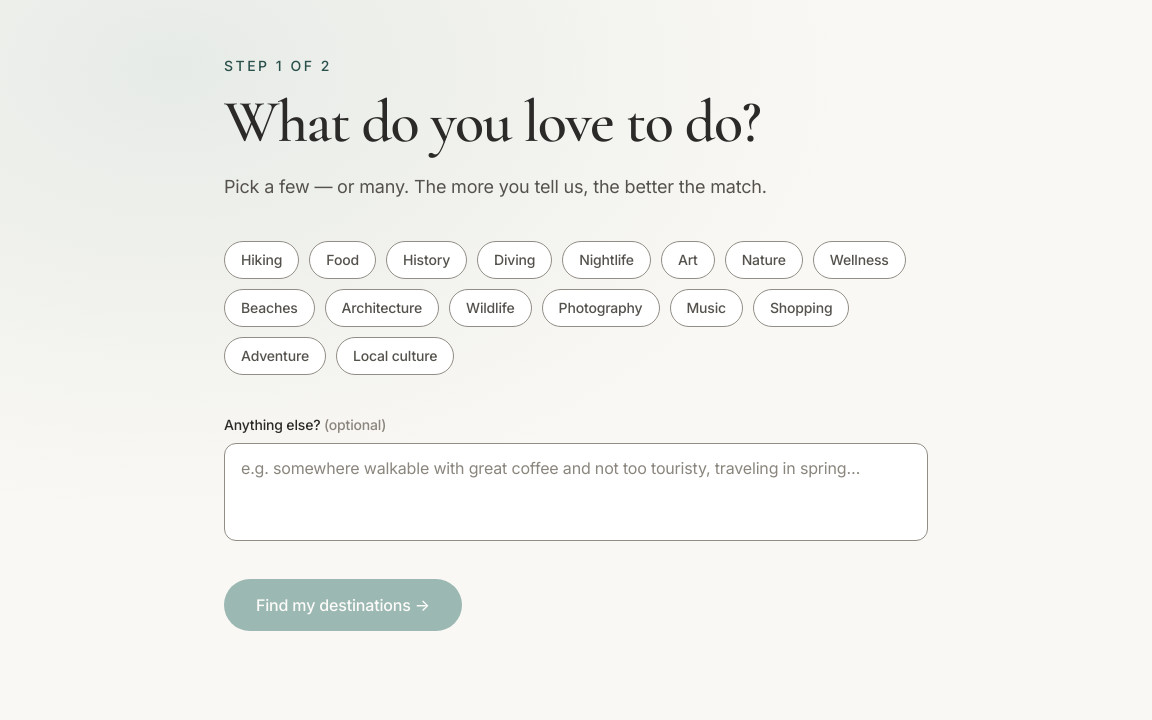
DiscoverPage (extended) › shows the running count and lets a hobby be toggled back off
Click the button "Food" at (343, 260), box [309,241,376,279]
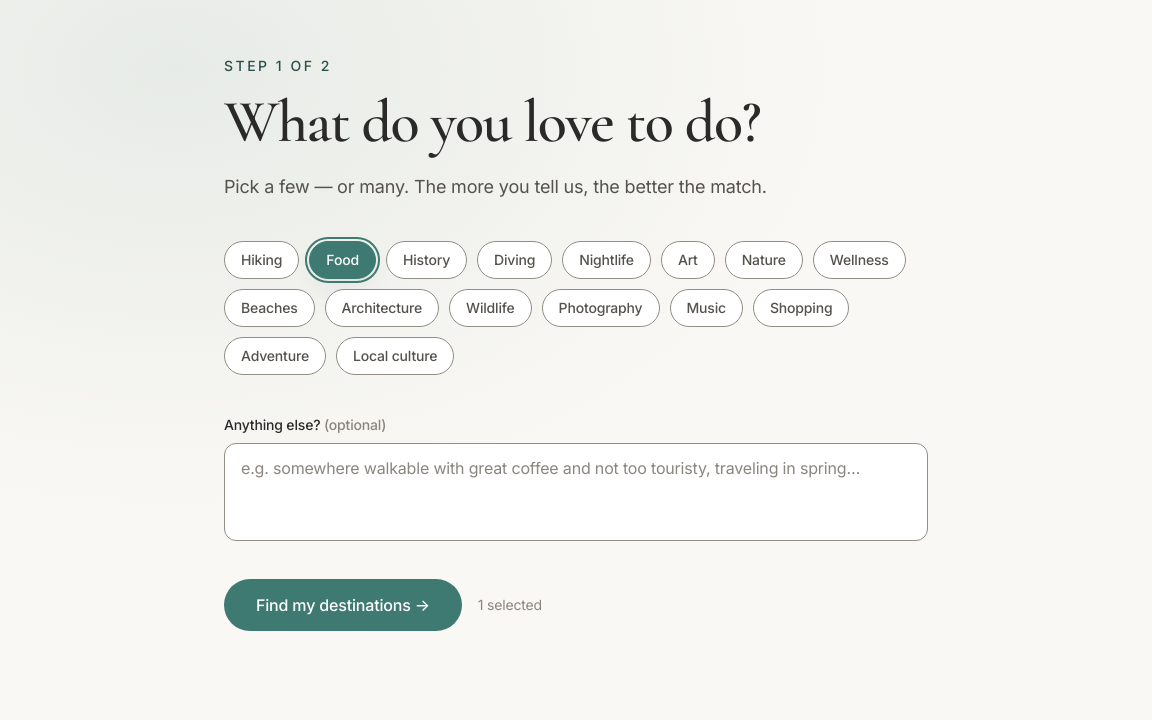
Check: the text "1 selected" is shown, box [478,595,542,615]
Click the button "Food" at (343, 260), box [309,241,376,279]
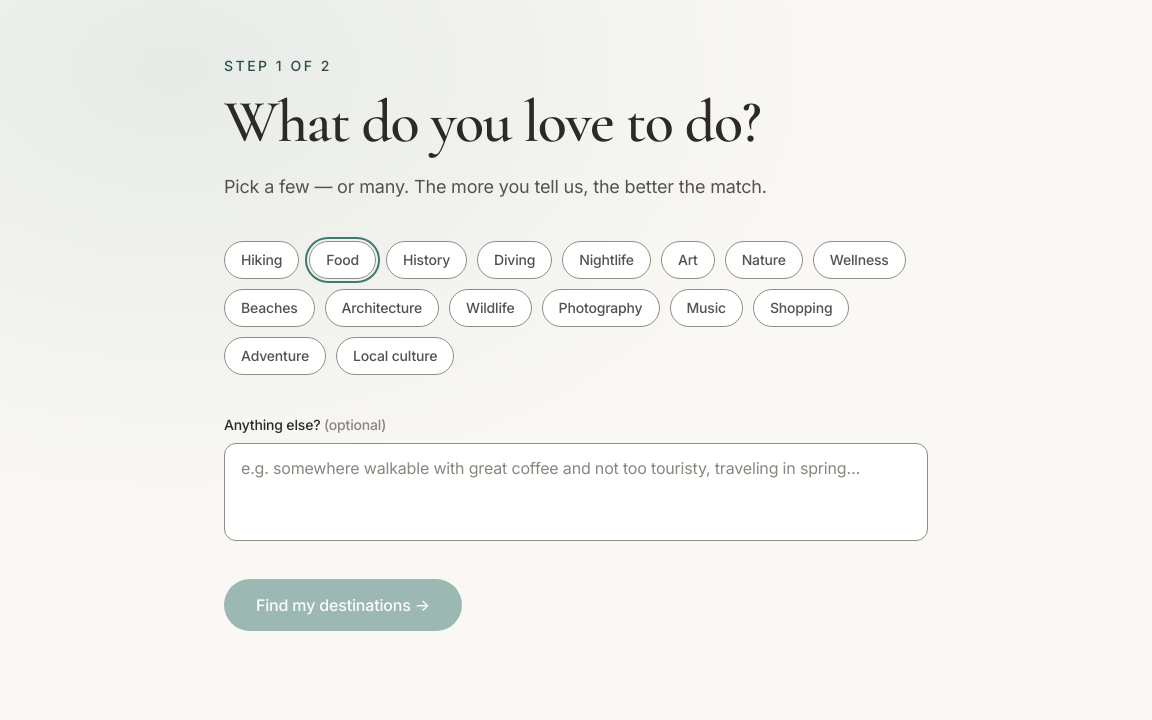
Check: the text "1 selected" is gone
